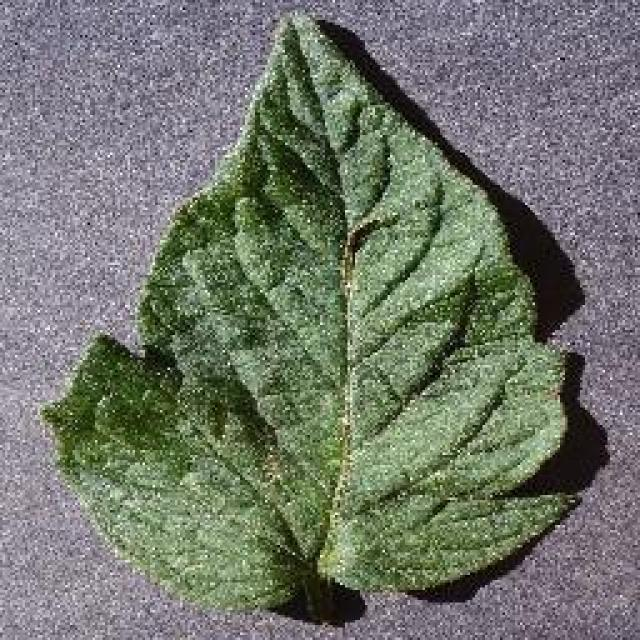Healthy: (33, 0, 595, 640)
